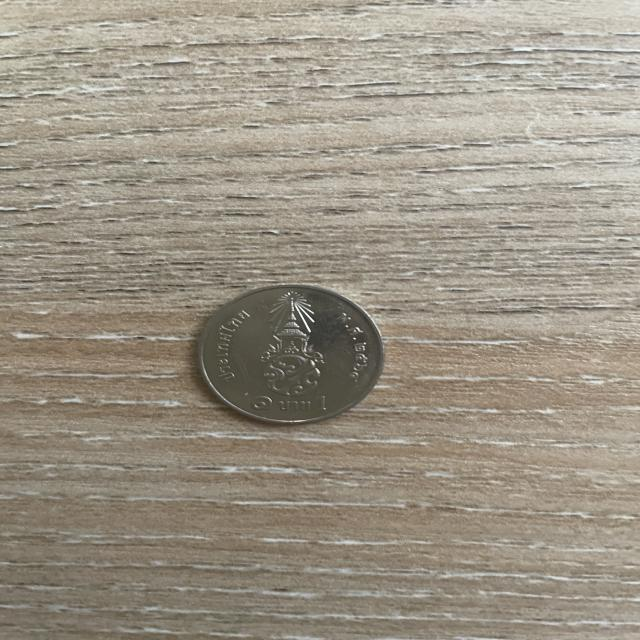1 Bath: (190, 278, 393, 431)
